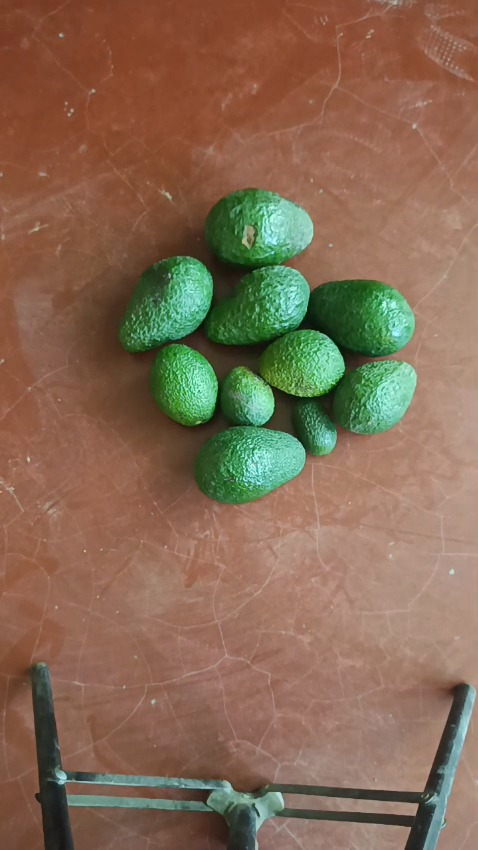Primera: (118, 256, 213, 352), (203, 189, 314, 268), (194, 424, 305, 501), (204, 266, 309, 346), (307, 279, 415, 356)
Segunda: (332, 360, 419, 434), (258, 329, 345, 397), (148, 343, 219, 425)
Tercera: (219, 365, 275, 425), (292, 397, 336, 455)
